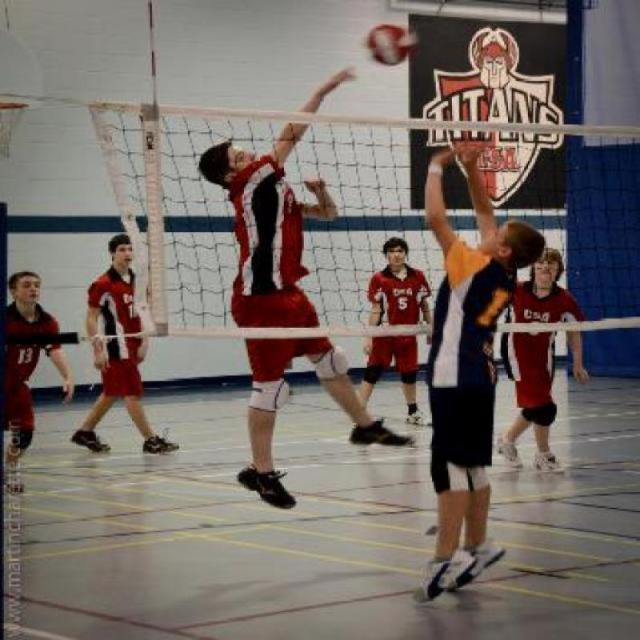volleyball: (362, 22, 414, 64)
